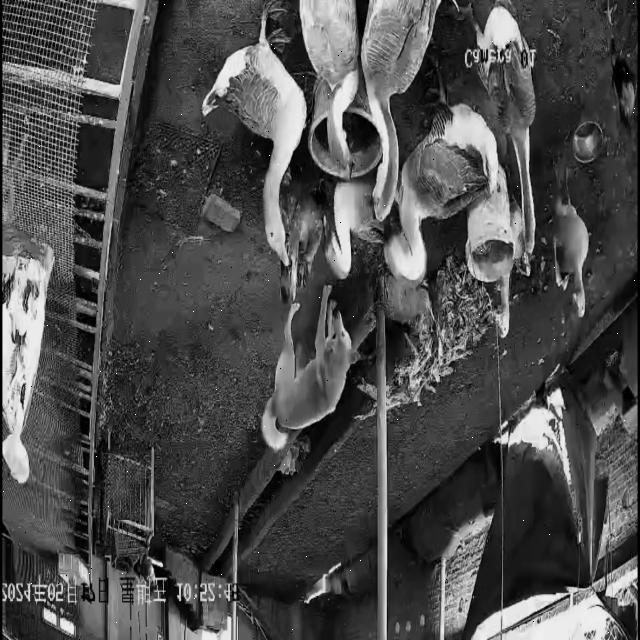dog: (262, 285, 362, 455)
